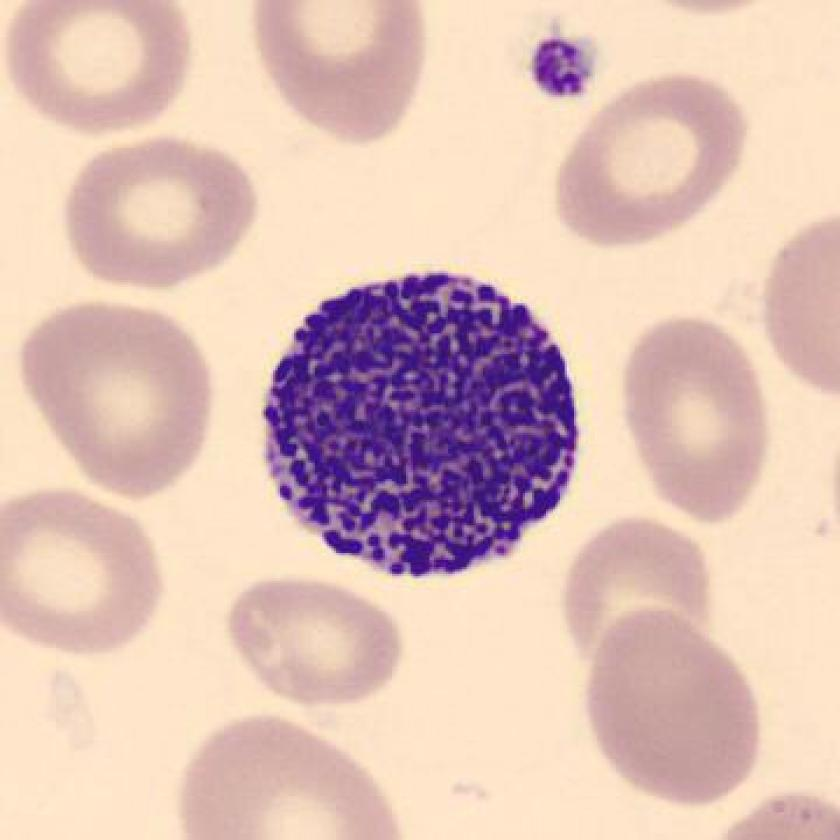basophil: (248, 256, 589, 601)
